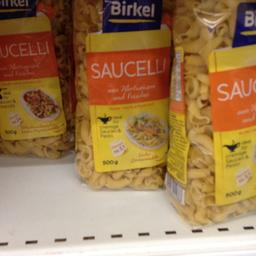pasta: (166, 0, 254, 225), (72, 0, 173, 190), (0, 0, 73, 159)
